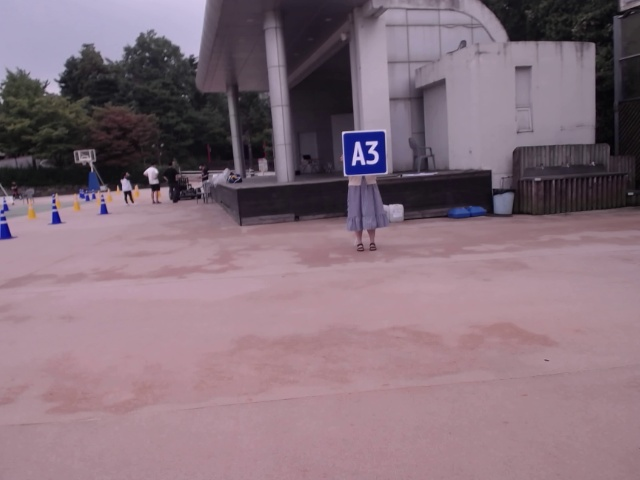delivery_a3: (343, 131, 388, 176)
